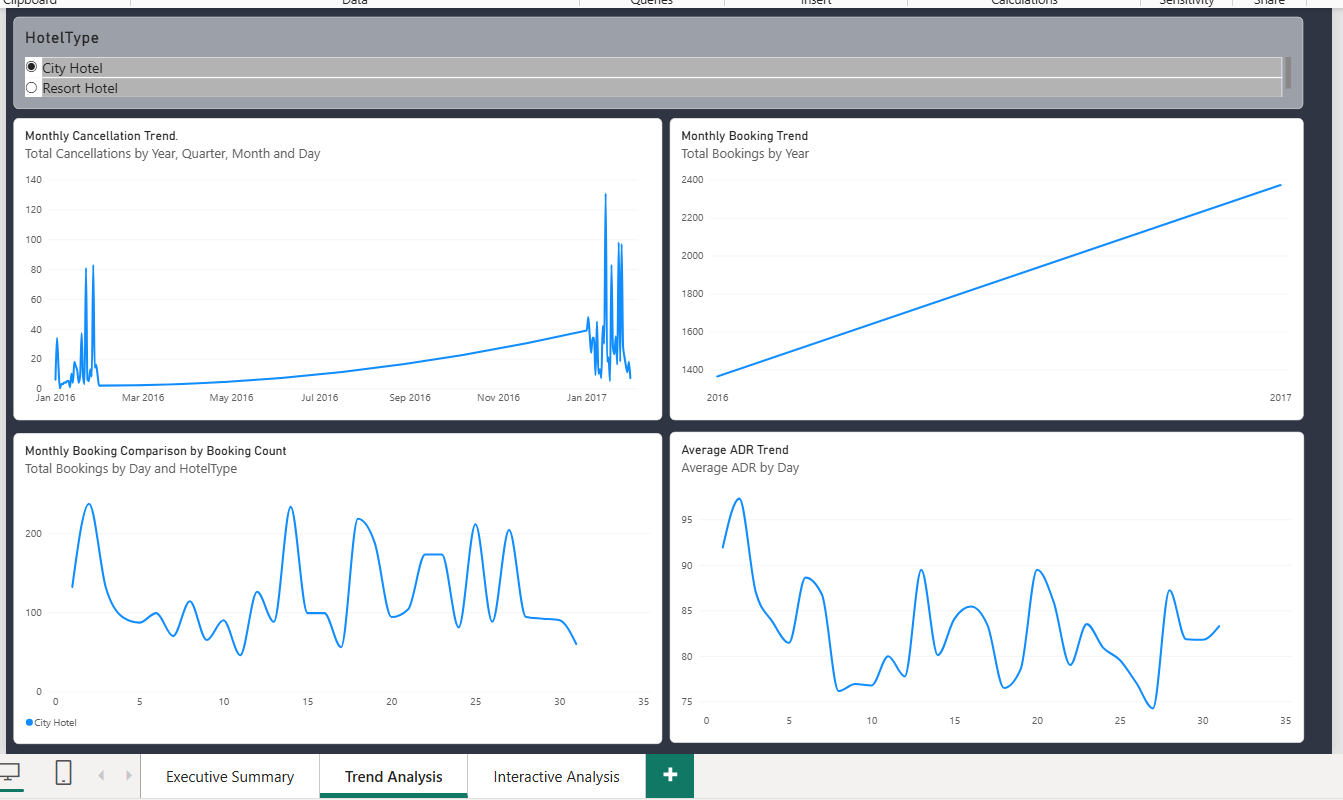

The dashboard page shown, as its layout file describes it:
{"tool":"powerbi","page":{"name":"Trend Analysis","canvas":[1920,1080],"ordinal":1},"visuals":[{"type":"lineChart","title":"Monthly Booking Trend","fields":{"Category":["mart BookingCancellationAnalysis.ArrivalDate.Variation.Date Hierarchy.Year","mart BookingCancellationAnalysis.ArrivalDate.Variation.Date Hierarchy.Quarter","mart BookingCancellationAnalysis.ArrivalDate.Variation.Date Hierarchy.Month","mart BookingCancellationAnalysis.ArrivalDate.Variation.Date Hierarchy.Day"],"Y":["mart BookingCancellationAnalysis.Total Bookings"]},"box":[960.9,159.3,917.5,437.9],"z":0},{"type":"lineChart","title":"Monthly Cancellation Trend.","fields":{"Category":["mart BookingCancellationAnalysis.ArrivalDate.Variation.Date Hierarchy.Year","mart BookingCancellationAnalysis.ArrivalDate.Variation.Date Hierarchy.Quarter","mart BookingCancellationAnalysis.ArrivalDate.Variation.Date Hierarchy.Month","mart BookingCancellationAnalysis.ArrivalDate.Variation.Date Hierarchy.Day"],"Y":["mart BookingCancellationAnalysis.Total Cancellations"]},"box":[10.9,159.3,939.2,437.9],"z":1000},{"type":"lineChart","title":"Average ADR Trend","fields":{"Category":["mart BookingCancellationAnalysis.ArrivalDate.Variation.Date Hierarchy.Year","mart BookingCancellationAnalysis.ArrivalDate.Variation.Date Hierarchy.Quarter","mart BookingCancellationAnalysis.ArrivalDate.Variation.Date Hierarchy.Month","mart BookingCancellationAnalysis.ArrivalDate.Variation.Date Hierarchy.Day"],"Y":["mart BookingCancellationAnalysis.Average ADR"]},"box":[960.9,613.5,918.3,450],"z":2000},{"type":"listSlicer","fields":{"Values":["mart BookingCancellationAnalysis.HotelType"]},"box":[10.9,12.7,1867.6,133.9],"z":3000},{"type":"lineChart","title":"Monthly Booking Comparison by Booking Count","fields":{"Category":["mart BookingCancellationAnalysis.ArrivalDate.Variation.Date Hierarchy.Year","mart BookingCancellationAnalysis.ArrivalDate.Variation.Date Hierarchy.Quarter","mart BookingCancellationAnalysis.ArrivalDate.Variation.Date Hierarchy.Month","mart BookingCancellationAnalysis.ArrivalDate.Variation.Date Hierarchy.Day"],"Series":["mart BookingCancellationAnalysis.HotelType"],"Y":["mart BookingCancellationAnalysis.Total Bookings"]},"box":[10.9,615.3,939.2,450.6],"z":4000}]}

Visuals, with their boxes in screenshot pixels (x1, y1, x2, y2):
"Monthly Booking Trend" lineChart: l=666, t=117, r=1299, b=419
"Monthly Cancellation Trend." lineChart: l=11, t=117, r=659, b=419
"Average ADR Trend" lineChart: l=666, t=430, r=1300, b=741
listSlicer - mart BookingCancellationAnalysis.HotelType: l=11, t=16, r=1299, b=108
"Monthly Booking Comparison by Booking Count" lineChart: l=11, t=431, r=659, b=742
